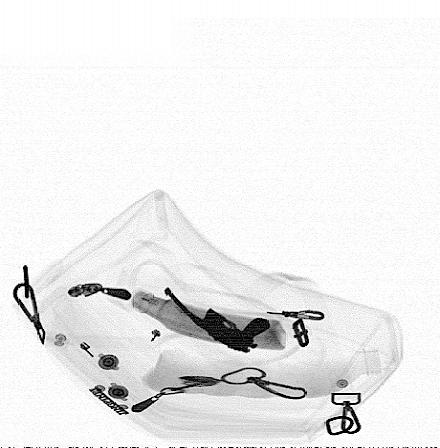Gun: (162, 286, 272, 355)
